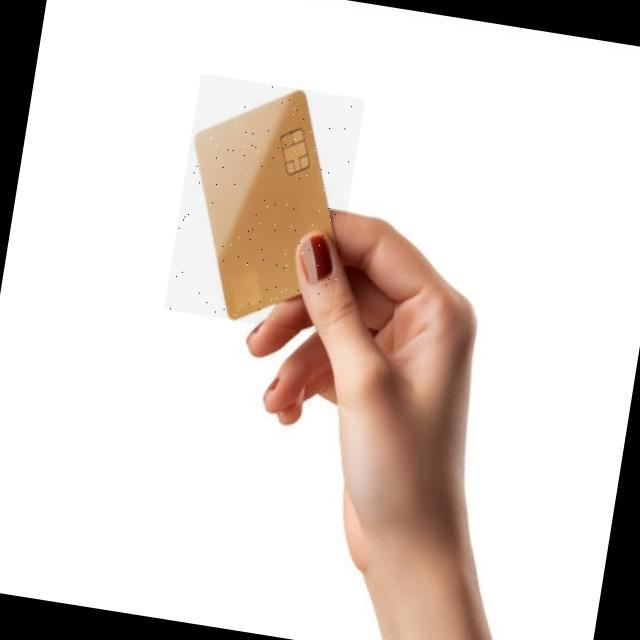payment_card: (165, 73, 365, 321)
